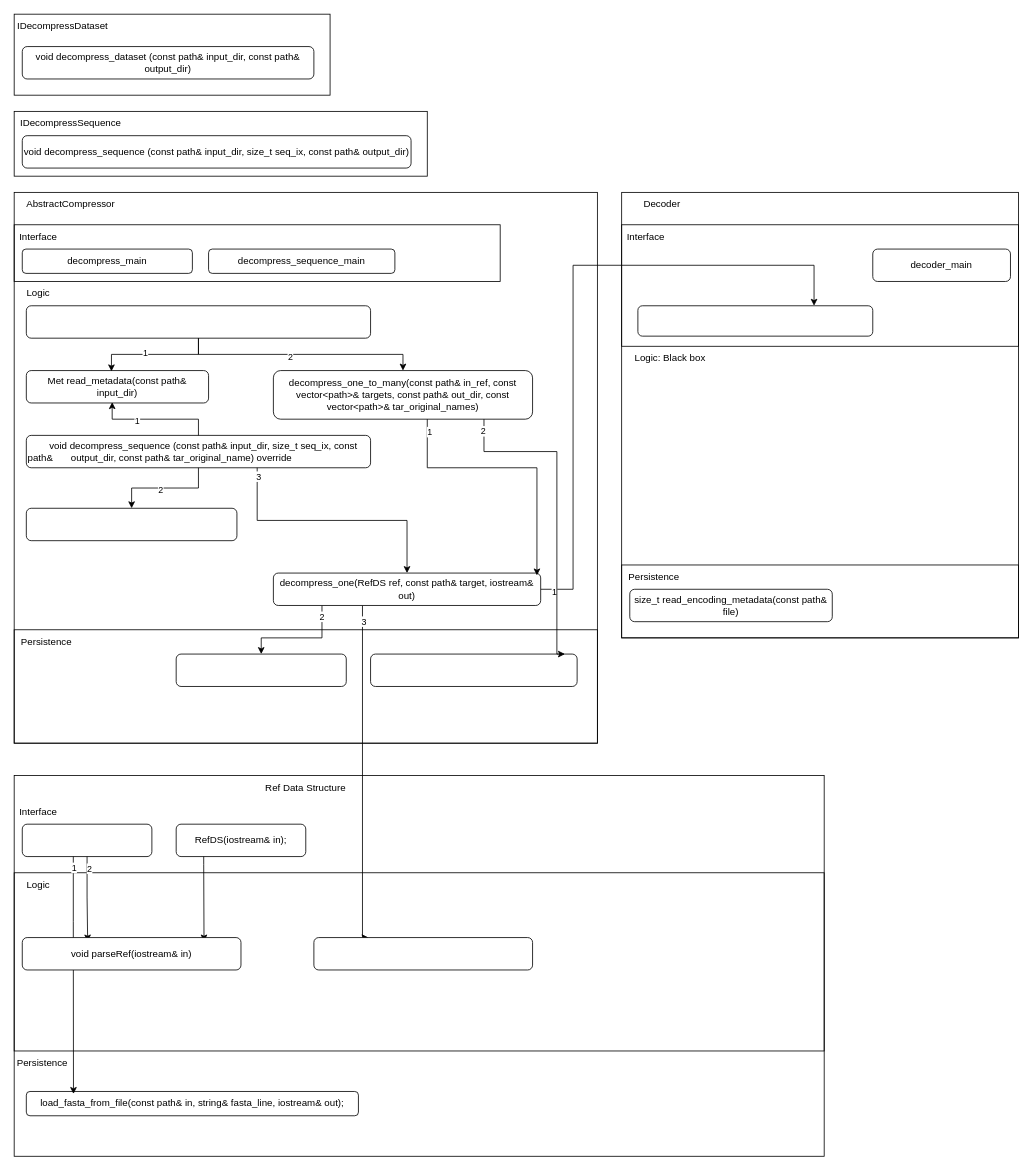
This 1033x1170 diagram has some shape labels left out. Here are the shapes that lost their labels. From the top down, the centre of each, then its label:
pixel 198 321: void decompress_dataset (const path& input_dir, const path& output_dir) override
pixel 755 320: decode_with_metadata(const path& in, const path& out)
pixel 131 524: static: vector<size_t> find_path(Met met, size_t seq_ix)
pixel 260 669: load_decoded_target_from_disk
pixel 473 669: write_decompressed_to_disk
pixel 86 840: RefDS(const path& path);
pixel 423 953: void decompress_target(iostream& in, iostream& out)
